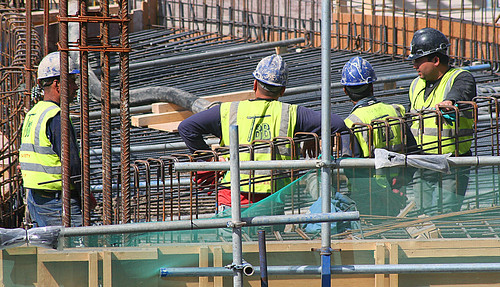person hardhat: (181, 52, 344, 234), (404, 26, 479, 229), (331, 54, 408, 235), (27, 49, 98, 230)
